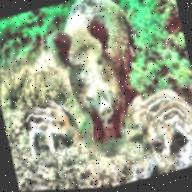boar: (41, 0, 155, 139), (17, 87, 82, 168), (119, 83, 192, 137), (134, 93, 192, 159)
